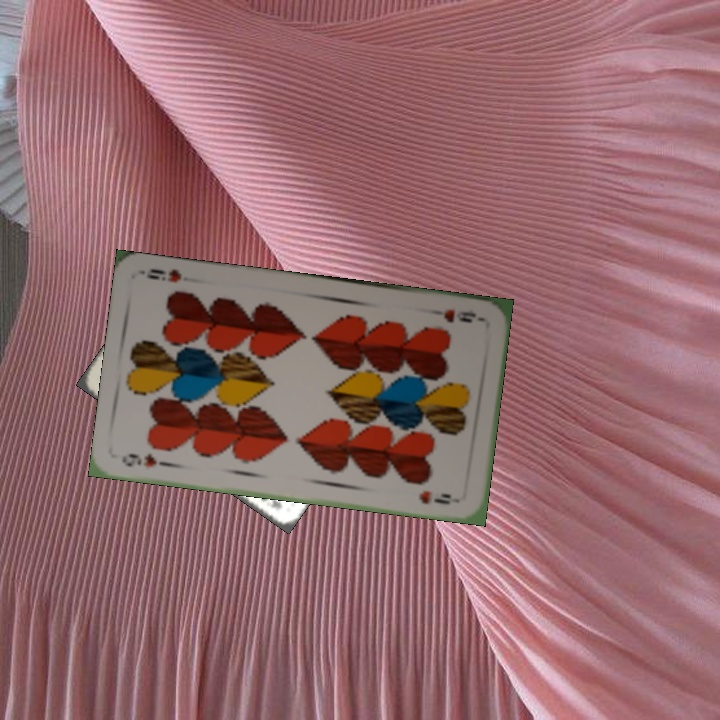H9: (118, 449, 174, 470), (439, 305, 485, 325)
